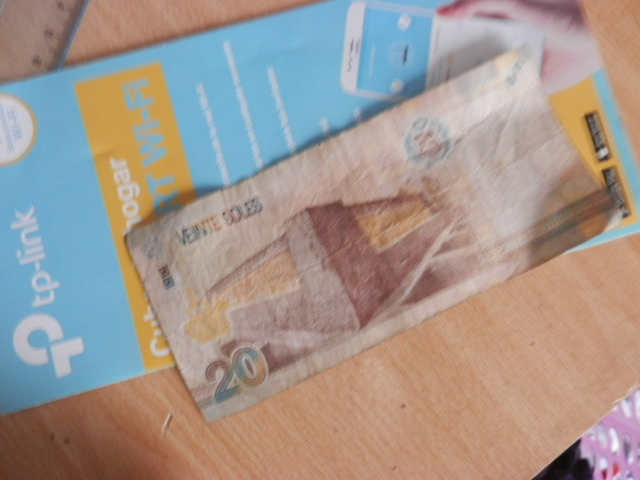B20: (129, 74, 618, 413)
